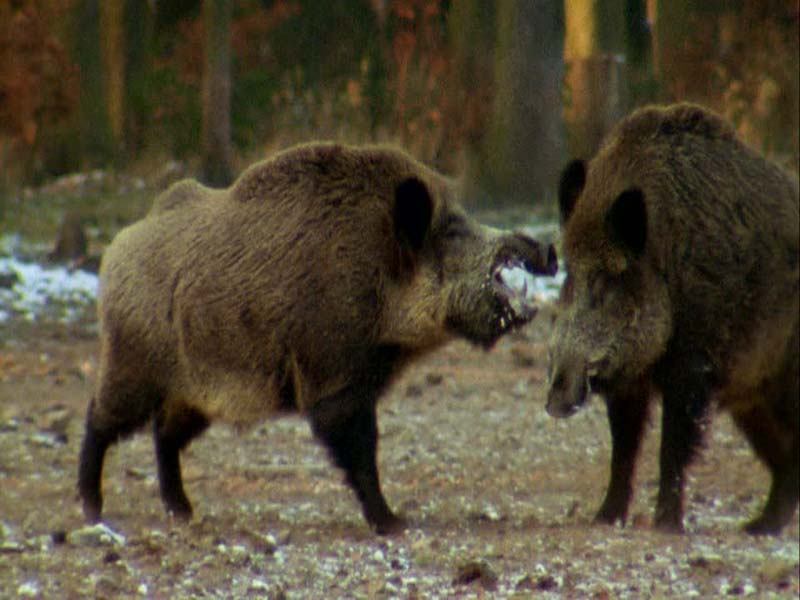cinghiale: (92, 142, 557, 528), (548, 110, 800, 549)
